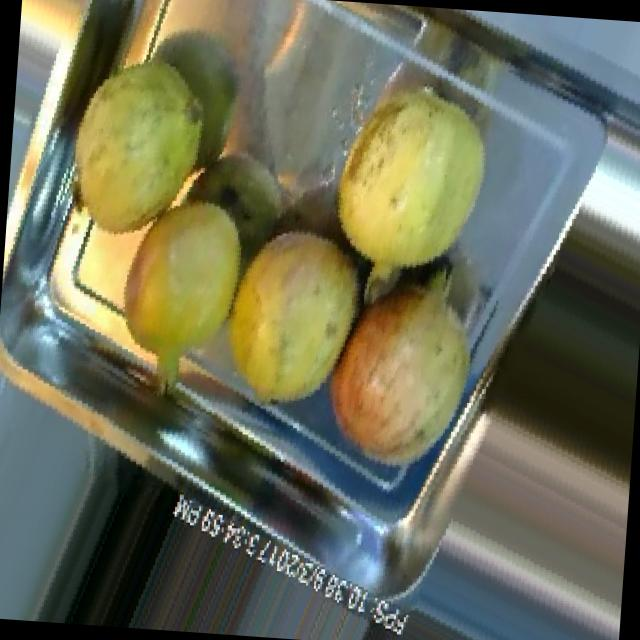fruit: (306, 57, 518, 306), (199, 198, 388, 431)
